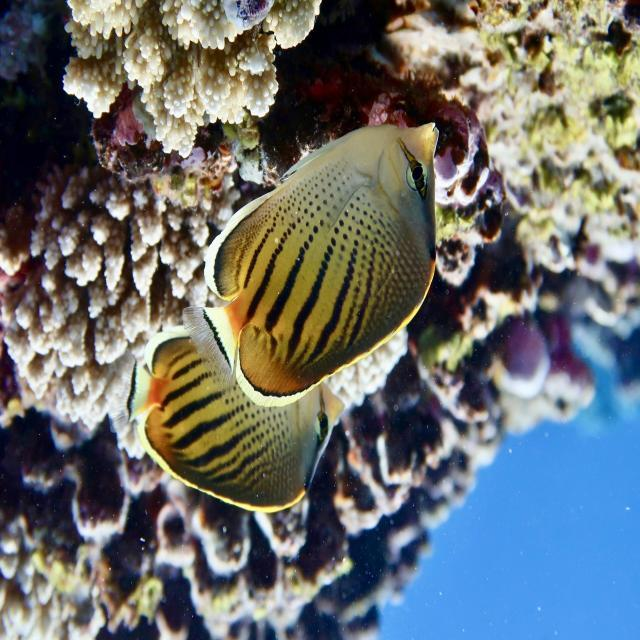ButterflyFish: (199, 112, 453, 407), (114, 339, 364, 519)
